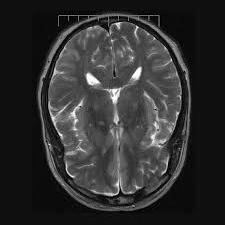Normal_Brain: (28, 2, 225, 225)
